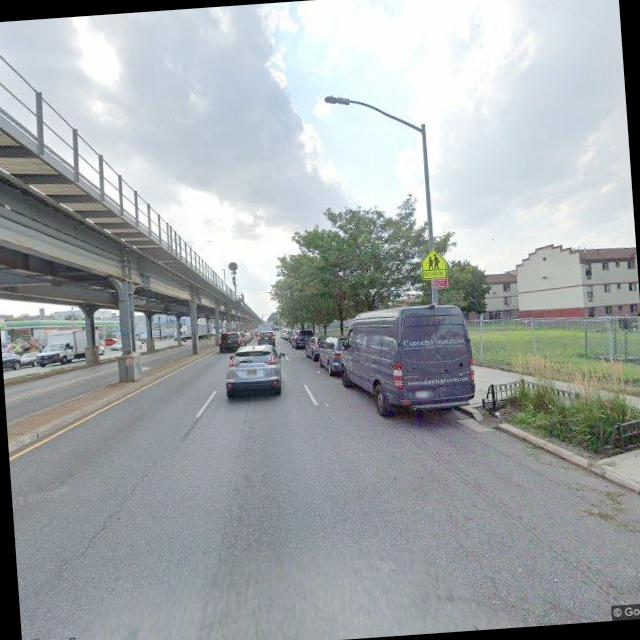pothole: (59, 471, 154, 566)
